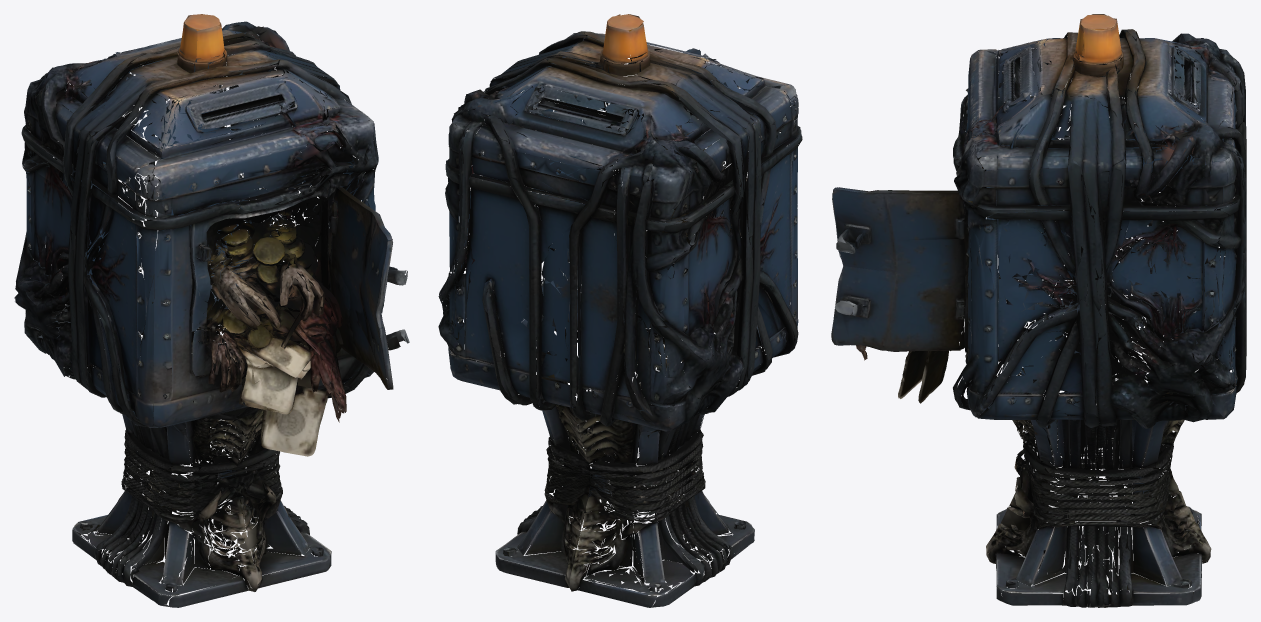
Rendered from tina_forged_council_ballot_box.glb.
3 renders of one model, left to right at view 1: azimuth 30°, elevation 25°; view 2: azimuth 150°, elevation 25°; view 3: azimuth 270°, elevation 25°, orthographic.
Visible parts, largest first — view 1: node_0; view 2: node_0; view 3: node_0.
Boxes of the visible parts, x1,y1,x2,y2 form: node_0: (14, 14, 409, 607); node_0: (438, 14, 802, 607); node_0: (831, 14, 1246, 607).
Size of the model in its own units: 0.5497 by 1.02 by 0.7117.
1 material, 1 textured.
